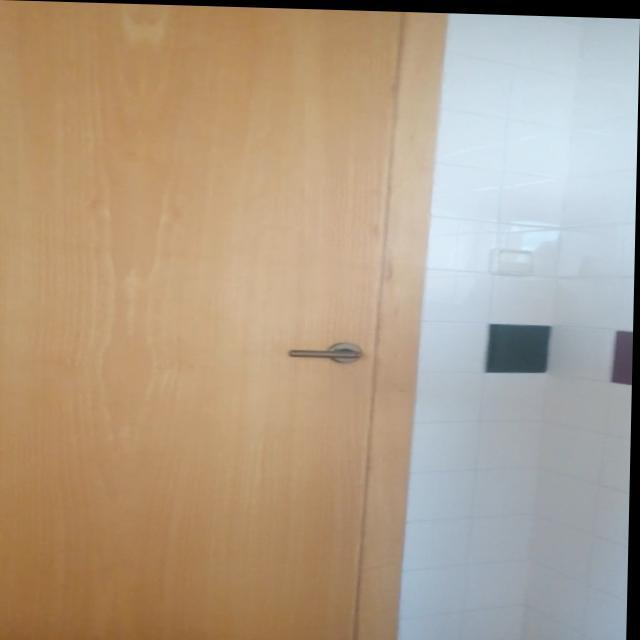door_handle: (287, 345, 366, 358)
